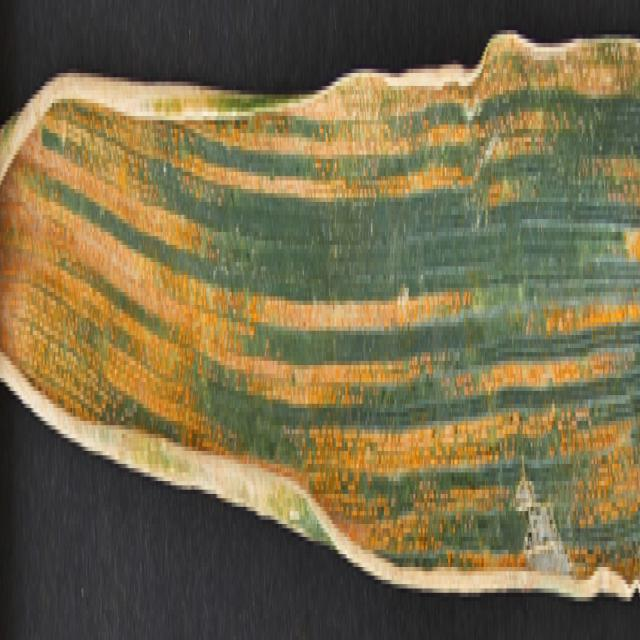leaf rust: (1, 4, 638, 584)
